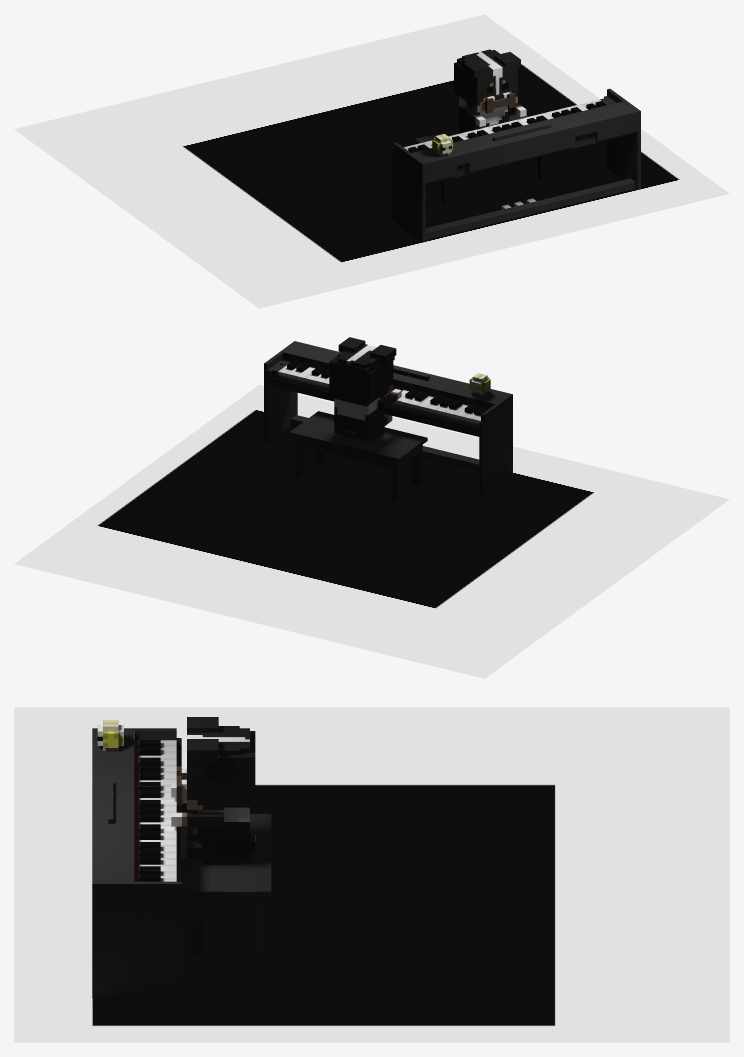
File: benji.glb
The picture shows the model from 3 angles, top to bottom: view 1: azimuth 30°, elevation 25°; view 2: azimuth 150°, elevation 25°; view 3: azimuth 270°, elevation 25°; orthographic projection. The views are drawn at different scales.
Visible parts, largest first — view 1: Plane, ObjObject; view 2: Plane, ObjObject; view 3: Plane, ObjObject.
Part boxes in pixels (left/top/right/bottom): Plane: left=14, top=14, right=729, bottom=308; ObjObject: left=392, top=49, right=640, bottom=242; Plane: left=14, top=384, right=729, bottom=678; ObjObject: left=264, top=337, right=512, bottom=502; Plane: left=14, top=707, right=729, bottom=1042; ObjObject: left=92, top=717, right=271, bottom=998.
Bounding box in the file's own units: 15.09 × 3.9 × 13.62.
2 materials, 2 textured.
